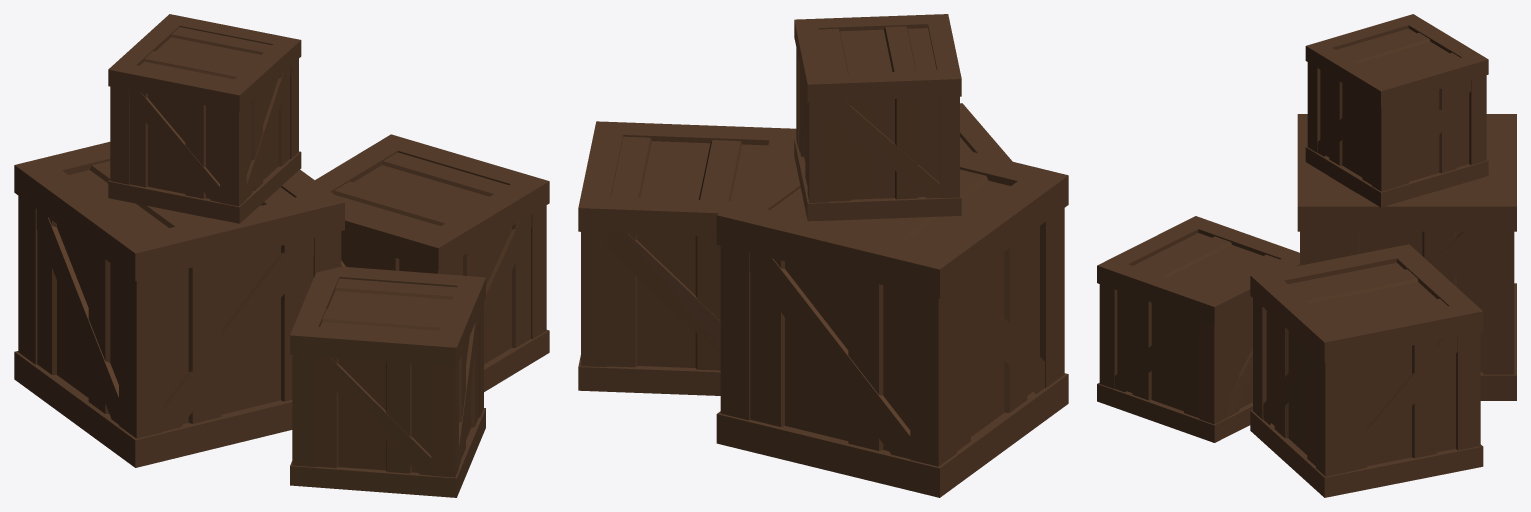
Rendered from prop_crates.obj.
The picture shows the model from 3 angles, left to right: view 1: azimuth 30°, elevation 25°; view 2: azimuth 150°, elevation 25°; view 3: azimuth 270°, elevation 25°; orthographic projection. The views are drawn at different scales.
Size of the model in its own units: 2.22 by 1.7 by 2.08.
